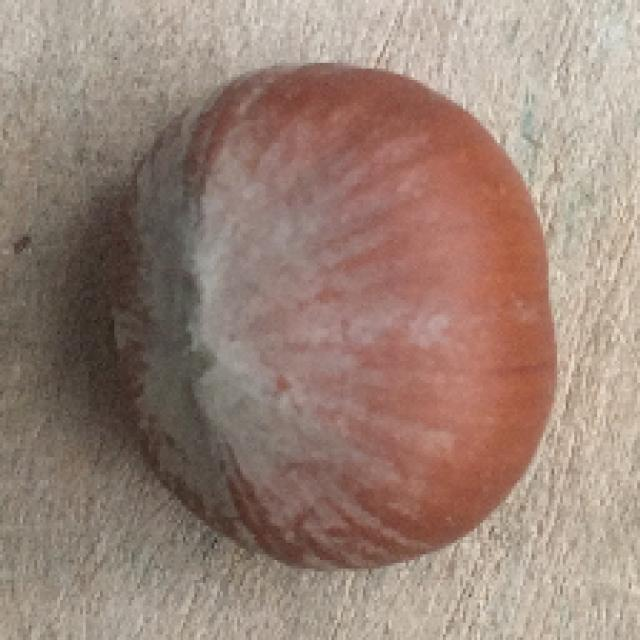qualityHazelnut: (97, 58, 563, 574)
